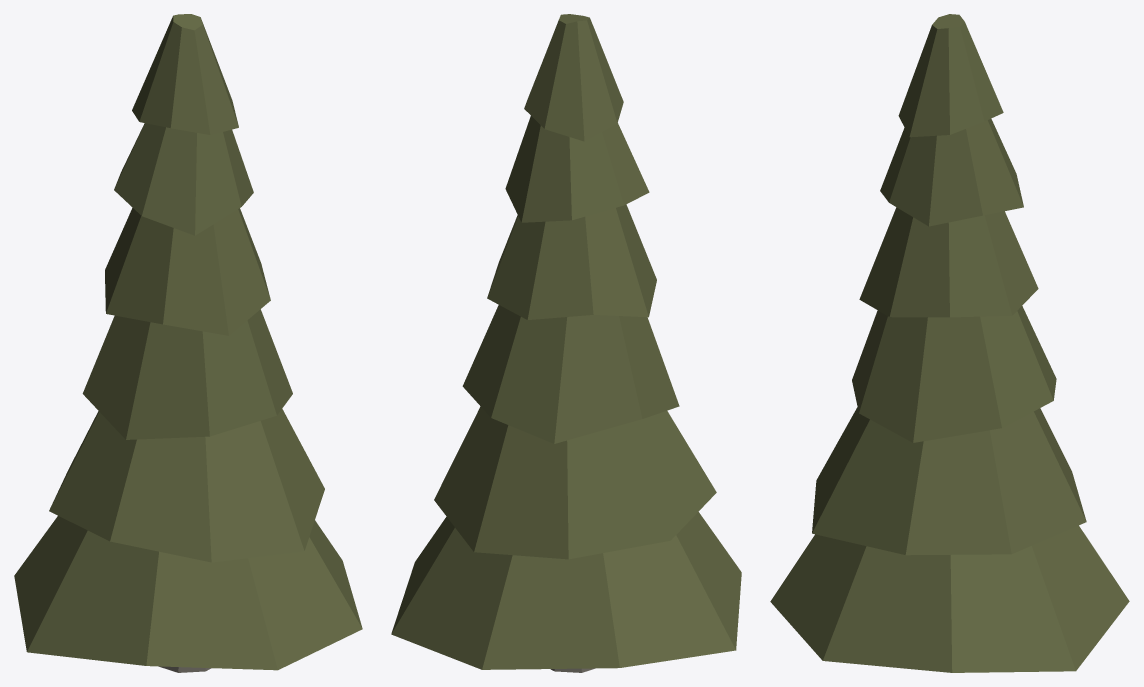
File: tree.fbx
3 renders of one model, left to right at view 1: azimuth 30°, elevation 25°; view 2: azimuth 150°, elevation 25°; view 3: azimuth 270°, elevation 25°, orthographic.
Visible parts, largest first — view 1: Leaves.001; view 2: Leaves.001; view 3: Leaves.001.
Part boxes in pixels (<box>): Leaves.001: <box>14,14,362,670</box>; Leaves.001: <box>391,14,741,669</box>; Leaves.001: <box>770,14,1129,672</box>.
Bounding box in the file's own units: 434 × 837 × 428.
